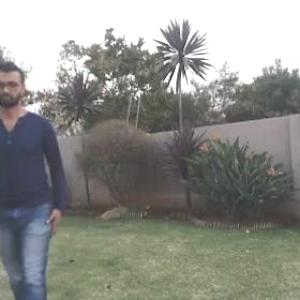follow: (1, 72, 67, 299)
